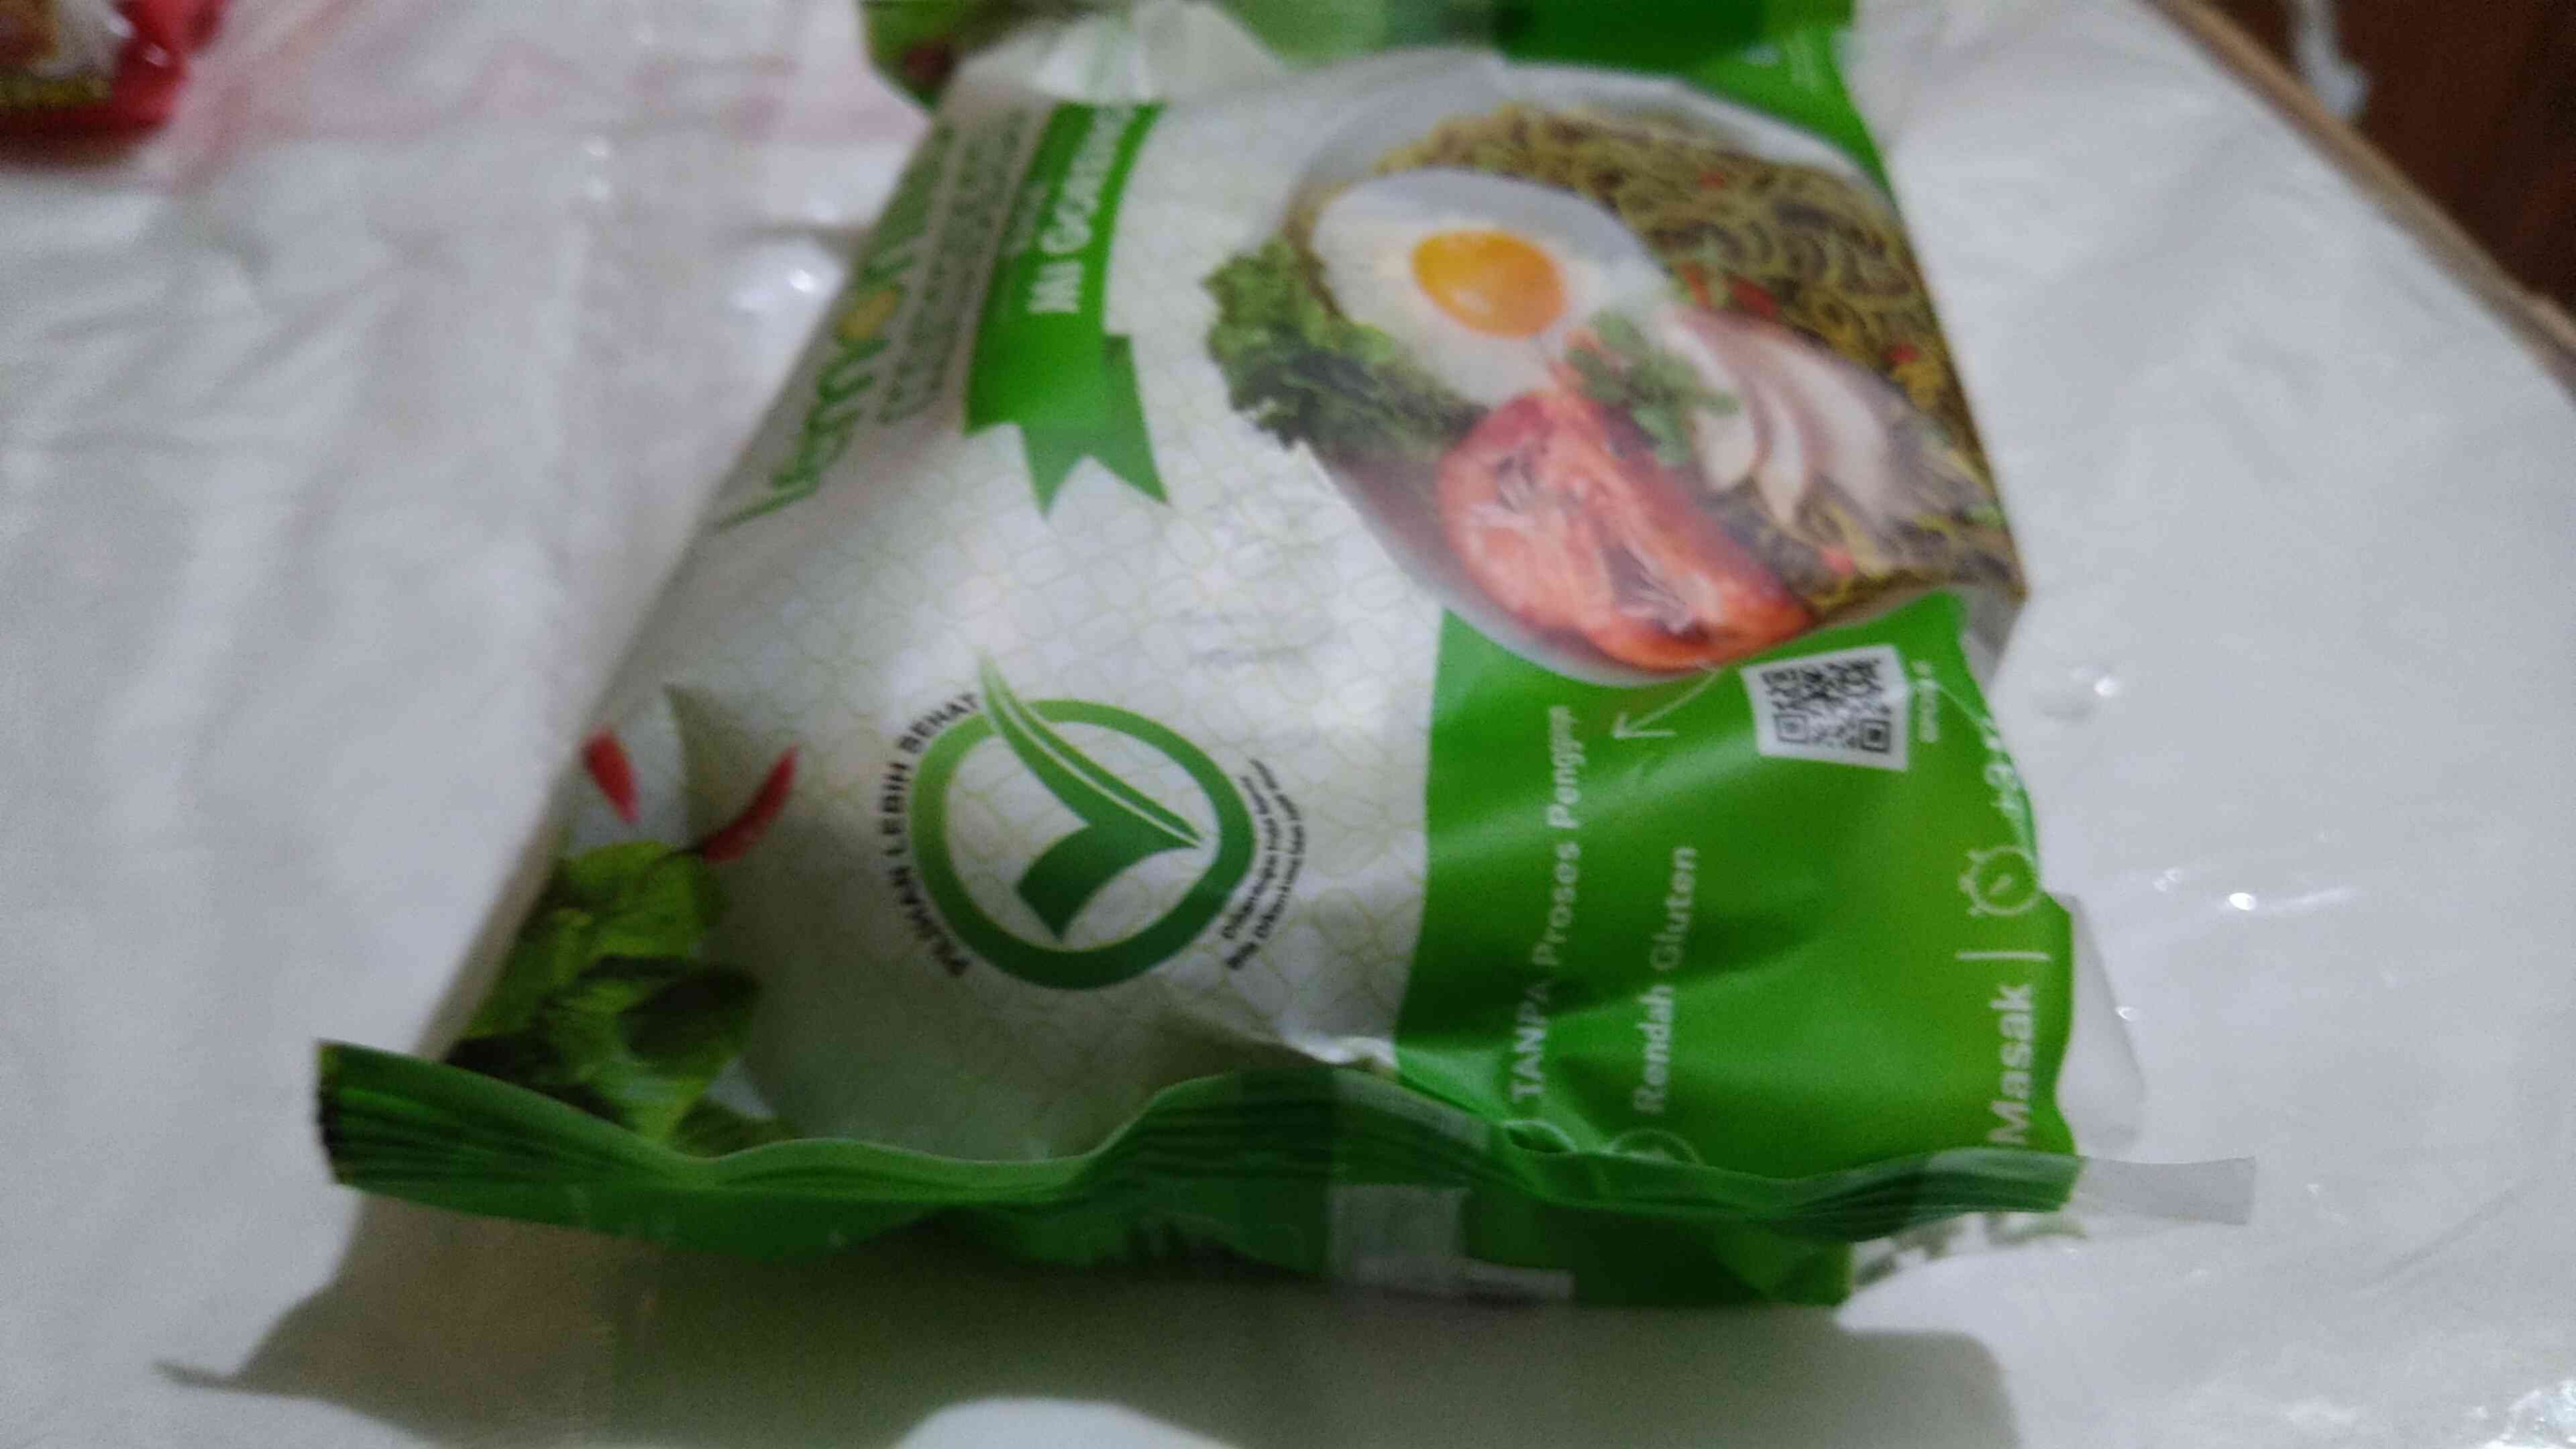lemonilo: (354, 14, 2121, 1283)
